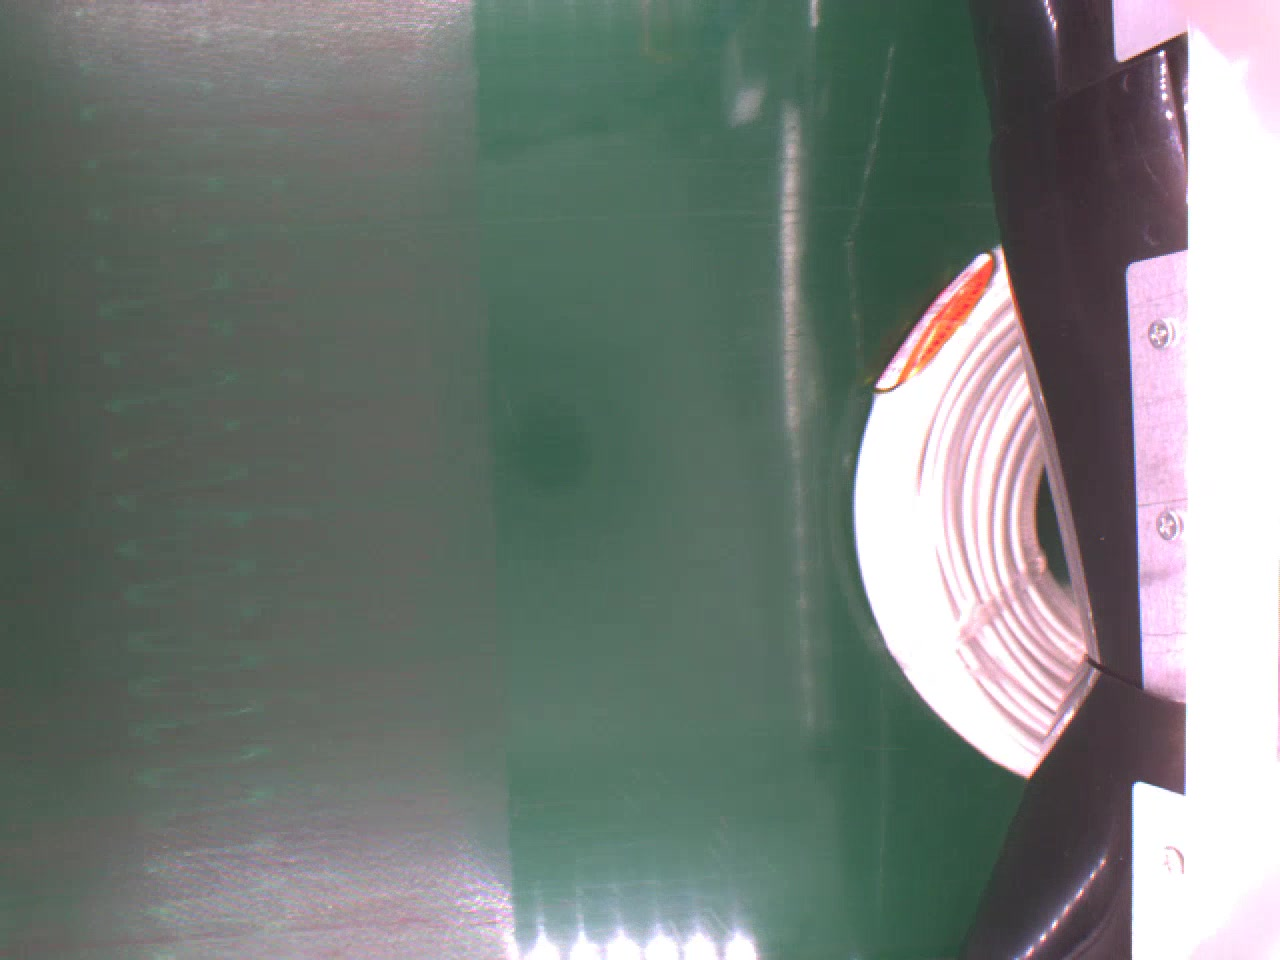white: (846, 233, 1080, 784)
